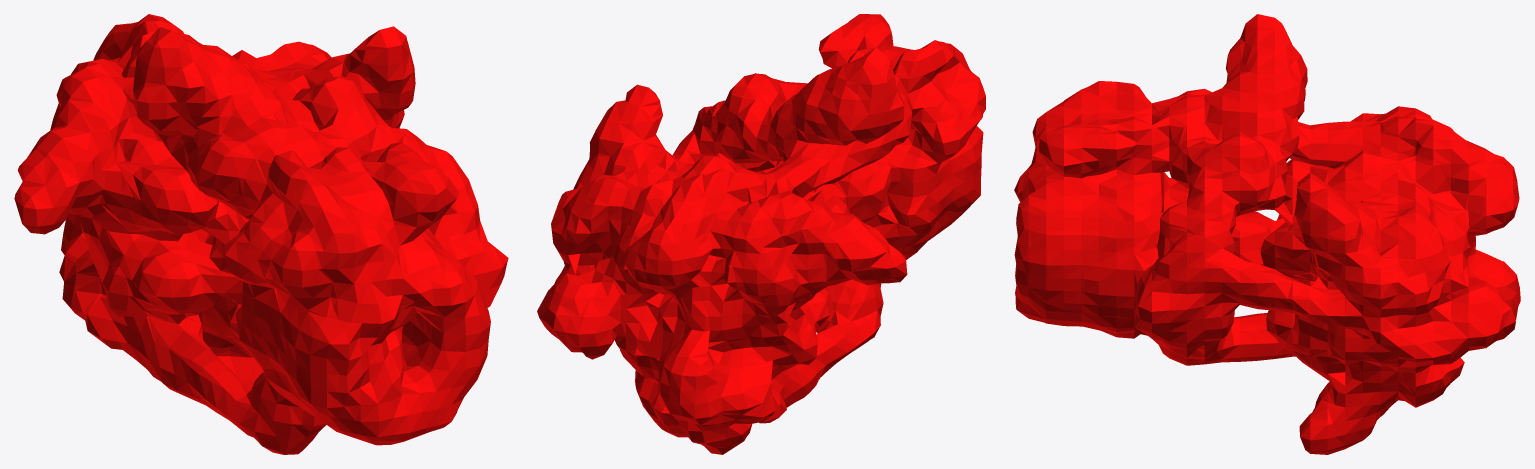
File: V_type_proton_ATPase_subunit_B_coarse.dae
The picture shows the model from 3 angles, left to right: view 1: azimuth 30°, elevation 25°; view 2: azimuth 150°, elevation 25°; view 3: azimuth 270°, elevation 25°; orthographic projection. The views are drawn at different scales.
Parts seen in each view (by area): view 1: V_type_proton_ATPase_subunit_B; view 2: V_type_proton_ATPase_subunit_B; view 3: V_type_proton_ATPase_subunit_B.
Part boxes in pixels (<box>): V_type_proton_ATPase_subunit_B: <box>14,14,508,454</box>; V_type_proton_ATPase_subunit_B: <box>537,14,985,454</box>; V_type_proton_ATPase_subunit_B: <box>1014,14,1520,454</box>.
Size of the model in its own units: 176 by 199 by 244.
